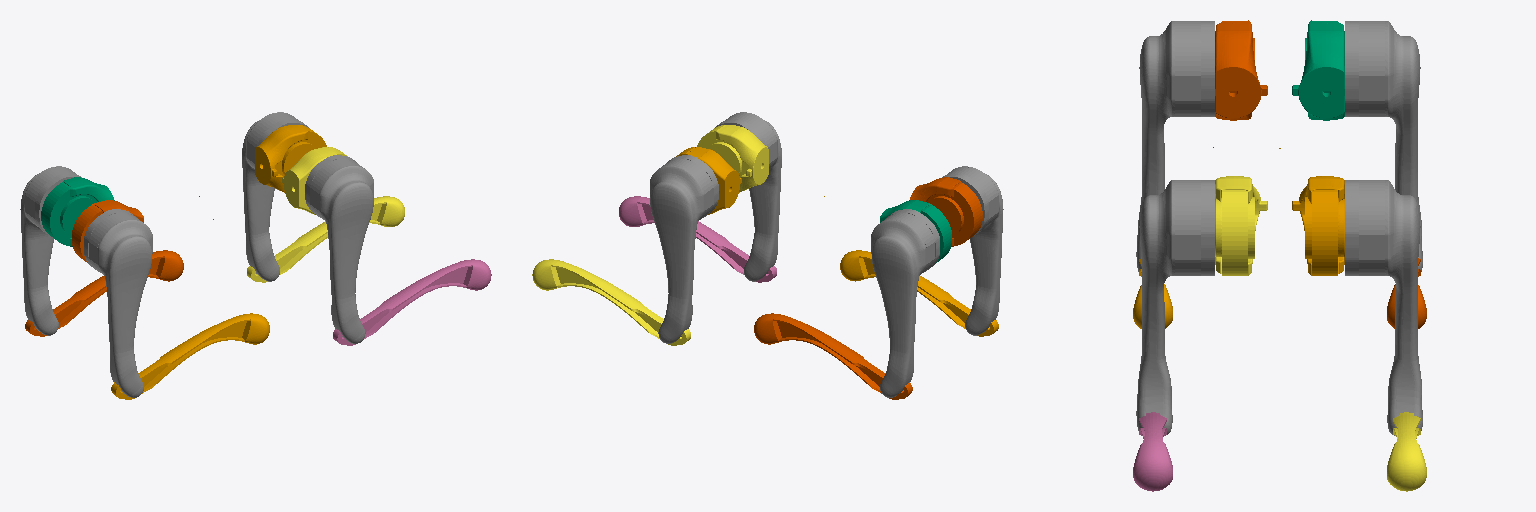
--- Render facts (derived) ---
3 views of the same robot in one strip: view 1: azimuth 30°, elevation 25°; view 2: azimuth 150°, elevation 25°; view 3: azimuth 270°, elevation 25° (orthographic).
Robot: go1_description — 23 links, 22 joints (12 revolute, 10 fixed); root link base; default pose: all joints at 0 but 4 set to mid-range because 0 is outside their limits (FR_calf_joint = -1.78, FL_calf_joint = -1.78, RR_calf_joint = -1.78, RL_calf_joint = -1.78).
Visible links, largest first — view 1: RR_thigh, FR_thigh, RL_thigh, FL_thigh, RR_calf, FR_calf, FL_hip, RL_hip, RL_calf, FL_calf, FR_hip, RR_hip; view 2: RL_thigh, FL_thigh, RR_thigh, FR_thigh, RL_calf, FL_calf, FR_hip, RR_hip, RR_calf, FR_calf, FL_hip, RL_hip; view 3: FR_thigh, FL_thigh, RR_thigh, RL_thigh, FR_hip, FL_hip, RR_hip, RL_hip, FR_calf, FL_calf, RR_calf, RL_calf.
Boxes of the visible links, x1,y1,x2,y2 form: RR_thigh: (84,209,152,397); FR_thigh: (305,155,373,343); RL_thigh: (20,166,81,335); FL_thigh: (242,112,308,281); RR_calf: (111,313,269,399); FR_calf: (333,259,491,345); FL_hip: (255,125,326,192); RL_hip: (41,177,114,246); RL_calf: (25,250,183,336); FL_calf: (247,196,404,282); FR_hip: (282,147,347,214); RR_hip: (72,200,143,262); RL_thigh: (871,209,939,397); FL_thigh: (650,155,718,343); RR_thigh: (942,166,1003,335); FR_thigh: (715,112,781,281); RL_calf: (754,313,912,399); FL_calf: (532,259,690,345); FR_hip: (697,125,768,192); RR_hip: (909,177,982,246); RR_calf: (840,250,998,336); FR_calf: (619,196,776,282); FL_hip: (676,147,741,214); RL_hip: (880,200,951,262); FR_thigh: (1136,180,1214,435); FL_thigh: (1345,180,1422,435); RR_thigh: (1136,21,1214,271); RL_thigh: (1345,21,1422,271); FR_hip: (1215,176,1267,275); FL_hip: (1292,176,1344,275); RR_hip: (1215,20,1267,120); RL_hip: (1292,20,1344,120); FR_calf: (1133,412,1172,491); FL_calf: (1387,412,1426,491); RR_calf: (1133,258,1172,328); RL_calf: (1387,258,1426,328).
Size in the robot's own frame: 0.6549 by 0.294 by 0.2793 metres.
Meshes: 5 distinct files referenced, 12 mesh visuals loaded (4 Collada DAE); not drawn: 1 (reference not matched to a file when rendering).

robot.urdf — go1_description:
<?xml version="1.0" ?>
<!-- =================================================================================== -->
<!-- |    This document was autogenerated by xacro from robot.xacro                    | -->
<!-- |    EDITING THIS FILE BY HAND IS NOT RECOMMENDED                                 | -->
<!-- =================================================================================== -->
<robot name="go1_description" xmlns:xacro="http://www.ros.org/wiki/xacro">
  <material name="black">
    <color rgba="0.0 0.0 0.0 1.0"/>
  </material>
  <material name="blue">
    <color rgba="0.0 0.0 0.8 1.0"/>
  </material>
  <material name="green">
    <color rgba="0.0 0.8 0.0 1.0"/>
  </material>
  <material name="grey">
    <color rgba="0.2 0.2 0.2 1.0"/>
  </material>
  <material name="silver">
    <color rgba="0.913725490196 0.913725490196 0.847058823529 1.0"/>
  </material>
  <material name="orange">
    <color rgba="1.0 0.423529411765 0.0392156862745 1.0"/>
  </material>
  <material name="brown">
    <color rgba="0.870588235294 0.811764705882 0.764705882353 1.0"/>
  </material>
  <material name="red">
    <color rgba="0.8 0.0 0.0 1.0"/>
  </material>
  <material name="white">
    <color rgba="1.0 1.0 1.0 1.0"/>
  </material>
  <!-- ros_control plugin -->
  <gazebo>
    <plugin filename="libgazebo_ros_control.so" name="gazebo_ros_control">
      <robotNamespace>/go1_gazebo</robotNamespace>
      <robotSimType>gazebo_ros_control/DefaultRobotHWSim</robotSimType>
    </plugin>
  </gazebo>
  <!-- Show the trajectory of trunk center. -->
  <gazebo>
    <plugin filename="libLinkPlot3DPlugin.so" name="3dplot">
      <frequency>10</frequency>
      <plot>
        <link>base</link>
        <pose>0 0 0 0 0 0</pose>
        <material>Gazebo/Yellow</material>
      </plot>
    </plugin>
  </gazebo>
  <!-- Show the trajectory of foot. You can add another trajectory about another foot. -->
  <!-- <gazebo>
        <plugin name="3dplot" filename="libLinkPlot3DPlugin.so">
            <frequency>100</frequency>
            <plot>
                <link>FL_foot</link>
                <pose>0 0 0 0 0 0</pose>
                <material>Gazebo/Green</material>
            </plot>
        </plugin>
    </gazebo> -->
  <gazebo>
    <plugin filename="libgazebo_ros_force.so" name="gazebo_ros_force">
      <bodyName>trunk</bodyName>
      <topicName>/apply_force/trunk</topicName>
    </plugin>
  </gazebo>
  <gazebo reference="imu_link">
    <gravity>true</gravity>
    <sensor name="imu_sensor" type="imu">
      <always_on>true</always_on>
      <update_rate>1000</update_rate>
      <visualize>true</visualize>
      <topic>__default_topic__</topic>
      <plugin filename="libgazebo_ros_imu_sensor.so" name="imu_plugin">
        <topicName>trunk_imu</topicName>
        <bodyName>imu_link</bodyName>
        <updateRateHZ>1000.0</updateRateHZ>
        <gaussianNoise>0.0</gaussianNoise>
        <xyzOffset>0 0 0</xyzOffset>
        <rpyOffset>0 0 0</rpyOffset>
        <frameName>imu_link</frameName>
      </plugin>
      <pose>0 0 0 0 0 0</pose>
    </sensor>
  </gazebo>
  <!-- Depth camera -->
  <!-- <gazebo>
        <plugin name="camera_plugin" filename="libgazebo_ros_openni_kinect.so">
            <baseline>0.025</baseline>
            <always_on>true</always_on>
            <updateRate>0.0</updateRate>
            <cameraName>unitree_camera_left</cameraName>
            <frameName>depthCamera_link_left</frameName>
            <imageTopicName>rgb/imageRaw_left</imageTopicName>
            <depthImageTopicName>depth/imageRaw_left</depthImageTopicName>
            <pointCloudTopicName>depth/points_left</pointCloudTopicName>
            <cameraInfoTopicName>rgb/cameraInfo_left</cameraInfoTopicName>              
            <depthImageCameraInfoTopicName>depth/cameraInfo_left</depthImageCameraInfoTopicName>            
            <pointCloudCutoff>0.1</pointCloudCutoff>                
            <pointCloudCutoffMax>1.5</pointCloudCutoffMax>                
            <distortionK1>0.0</distortionK1>
            <distortionK2>0.0</distortionK2>
            <distortionK3>0.0</distortionK3>
            <distortionT1>0.0</distortionT1>
            <distortionT2>0.0</distortionT2>
            <CxPrime>0.0</CxPrime>
            <Cx>0.0045</Cx>
            <Cy>0.0039</Cy>
            <focalLength>0.004</focalLength>
            <hackBaseline>0.0</hackBaseline>
        </plugin>
    </gazebo> -->
  <!-- <gazebo reference="depthCamera_link_left">
        <sensor name="unitree_camera_left" type="depth_camera">
            <update_rate>16</update_rate>
            <always_on>true</always_on>
            <visualize>true</visualize>
            <camera>
                <horizontal_fov>2.094</horizontal_fov>
                <image>
                    <width>928</width>
                    <height>800</height>
                    <format>R8G8B8</format>
                </image>
                <depth_camera></depth_camera>
                <clip>
                    <near>0.1</near>
                    <far>100</far>
                </clip>
            </camera>
            <plugin name="camera_plugin" filename="libgazebo_ros_openni_kinect.so">
                <baseline>0.025</baseline>
                <always_on>true</always_on>
                <updateRate>0.0</updateRate>
                <cameraName>unitree_camera_left</cameraName>
                <frameName>depthCamera_link_left</frameName>
                <imageTopicName>rgb/imageRaw_left</imageTopicName>
                <depthImageTopicName>depth/imageRaw_left</depthImageTopicName>
                <pointCloudTopicName>depth/points_left</pointCloudTopicName>
                <cameraInfoTopicName>rgb/cameraInfo_left</cameraInfoTopicName>              
                <depthImageCameraInfoTopicName>depth/cameraInfo_left</depthImageCameraInfoTopicName>            
                <pointCloudCutoff>0.1</pointCloudCutoff>                
                <pointCloudCutoffMax>1.5</pointCloudCutoffMax>                
                <distortionK1>0.0</distortionK1>
                <distortionK2>0.0</distortionK2>
                <distortionK3>0.0</distortionK3>
                <distortionT1>0.0</distortionT1>
                <distortionT2>0.0</distortionT2>
                <CxPrime>0.0</CxPrime>
                <Cx>0.0045</Cx>
                <Cy>0.0039</Cy>
                <focalLength>0.004</focalLength>
                <hackBaseline>0.0</hackBaseline>
            </plugin>
        </sensor>
    </gazebo> -->
  <gazebo reference="depthCamera_link_left">
    <sensor name="camera_link_camera" type="depth">
      <update_rate>20</update_rate>
      <camera>
        <horizontal_fov>1.047198</horizontal_fov>
        <image>
          <width>640</width>
          <height>480</height>
          <format>R8G8B8</format>
        </image>
        <clip>
          <near>0.05</near>
          <far>3</far>
        </clip>
      </camera>
      <plugin filename="libgazebo_ros_openni_kinect.so" name="camera_link_controller">
        <baseline>0.2</baseline>
        <alwaysOn>true</alwaysOn>
        <updateRate>1.0</updateRate>
        <cameraName>camera_link_ir</cameraName>
        <imageTopicName>/camera_link/color/image_raw</imageTopicName>
        <cameraInfoTopicName>/camera_link/color/camera_info</cameraInfoTopicName>
        <depthImageTopicName>/camera_link/depth/image_raw</depthImageTopicName>
        <depthImageInfoTopicName>/camera_link/depth/camera_info</depthImageInfoTopicName>
        <pointCloudTopicName>/camera_link/depth/points</pointCloudTopicName>
        <frameName>depthCamera_link_left</frameName>
        <pointCloudCutoff>0.5</pointCloudCutoff>
        <pointCloudCutoffMax>3.0</pointCloudCutoffMax>
        <distortionK1>0.00000001</distortionK1>
        <distortionK2>0.00000001</distortionK2>
        <distortionK3>0.00000001</distortionK3>
        <distortionT1>0.00000001</distortionT1>
        <distortionT2>0.00000001</distortionT2>
        <CxPrime>0</CxPrime>
        <Cx>0</Cx>
        <Cy>0</Cy>
        <focalLength>0</focalLength>
        <hackBaseline>0</hackBaseline>
      </plugin>
    </sensor>
  </gazebo>
  <!-- Foot contacts. -->
  <gazebo reference="FR_calf">
    <sensor name="FR_foot_contact" type="contact">
      <update_rate>100</update_rate>
      <plugin filename="libunitreeFootContactPlugin.so" name="contactPlugin"/>
      <contact>
        <collision>FR_calf_fixed_joint_lump__FR_foot_collision_1</collision>
      </contact>
    </sensor>
  </gazebo>
  <gazebo reference="FL_calf">
    <sensor name="FL_foot_contact" type="contact">
      <update_rate>100</update_rate>
      <plugin filename="libunitreeFootContactPlugin.so" name="contactPlugin"/>
      <contact>
        <collision>FL_calf_fixed_joint_lump__FL_foot_collision_1</collision>
      </contact>
    </sensor>
  </gazebo>
  <gazebo reference="RR_calf">
    <sensor name="RR_foot_contact" type="contact">
      <update_rate>100</update_rate>
      <plugin filename="libunitreeFootContactPlugin.so" name="contactPlugin"/>
      <contact>
        <collision>RR_calf_fixed_joint_lump__RR_foot_collision_1</collision>
      </contact>
    </sensor>
  </gazebo>
  <gazebo reference="RL_calf">
    <sensor name="RL_foot_contact" type="contact">
      <update_rate>100</update_rate>
      <plugin filename="libunitreeFootContactPlugin.so" name="contactPlugin"/>
      <contact>
        <collision>RL_calf_fixed_joint_lump__RL_foot_collision_1</collision>
      </contact>
    </sensor>
  </gazebo>
  <!-- Visualization of Foot contacts. -->
  <gazebo reference="FR_foot">
    <visual>
      <plugin filename="libunitreeDrawForcePlugin.so" name="drawForcePlugin">
        <topicName>FR_foot_contact</topicName>
      </plugin>
    </visual>
  </gazebo>
  <gazebo reference="FL_foot">
    <visual>
      <plugin filename="libunitreeDrawForcePlugin.so" name="drawForcePlugin">
        <topicName>FL_foot_contact</topicName>
      </plugin>
    </visual>
  </gazebo>
  <gazebo reference="RR_foot">
    <visual>
      <plugin filename="libunitreeDrawForcePlugin.so" name="drawForcePlugin">
        <topicName>RR_foot_contact</topicName>
      </plugin>
    </visual>
  </gazebo>
  <gazebo reference="RL_foot">
    <visual>
      <plugin filename="libunitreeDrawForcePlugin.so" name="drawForcePlugin">
        <topicName>RL_foot_contact</topicName>
      </plugin>
    </visual>
  </gazebo>
  <gazebo reference="base">
    <material>Gazebo/Green</material>
    <turnGravityOff>false</turnGravityOff>
  </gazebo>
  <gazebo reference="trunk">
    <mu1>0.2</mu1>
    <mu2>0.2</mu2>
    <kp value="1000000.0"/>
    <kd value="1.0"/>
  </gazebo>
  <gazebo reference="stick_link">
    <mu1>0.2</mu1>
    <mu2>0.2</mu2>
    <material>Gazebo/White</material>
  </gazebo>
  <gazebo reference="imu_link">
    <mu1>0.2</mu1>
    <mu2>0.2</mu2>
    <material>Gazebo/Red</material>
  </gazebo>
  <!-- FL leg -->
  <gazebo reference="FL_hip">
    <mu1>0.2</mu1>
    <mu2>0.2</mu2>
    <material>Gazebo/DarkGrey</material>
  </gazebo>
  <gazebo reference="FL_thigh">
    <mu1>0.2</mu1>
    <mu2>0.2</mu2>
    <self_collide>1</self_collide>
    <material>Gazebo/DarkGrey</material>
    <kp value="1000000.0"/>
    <kd value="1.0"/>
  </gazebo>
  <gazebo reference="FL_calf">
    <mu1>0.2</mu1>
    <mu2>0.2</mu2>
    <self_collide>1</self_collide>
  </gazebo>
  <gazebo reference="FL_foot">
    <mu1>0.6</mu1>
    <mu2>0.6</mu2>
    <self_collide>1</self_collide>
    <material>Gazebo/DarkGrey</material>
    <kp value="1000000.0"/>
    <kd value="1.0"/>
  </gazebo>
  <!-- FR leg -->
  <gazebo reference="FR_hip">
    <mu1>0.2</mu1>
    <mu2>0.2</mu2>
    <material>Gazebo/DarkGrey</material>
  </gazebo>
  <gazebo reference="FR_thigh">
    <mu1>0.2</mu1>
    <mu2>0.2</mu2>
    <self_collide>1</self_collide>
    <material>Gazebo/DarkGrey</material>
    <kp value="1000000.0"/>
    <kd value="1.0"/>
  </gazebo>
  <gazebo reference="FR_calf">
    <mu1>0.2</mu1>
    <mu2>0.2</mu2>
    <self_collide>1</self_collide>
  </gazebo>
  <gazebo reference="FR_foot">
    <mu1>0.6</mu1>
    <mu2>0.6</mu2>
    <self_collide>1</self_collide>
    <material>Gazebo/DarkGrey</material>
    <kp value="1000000.0"/>
    <kd value="1.0"/>
  </gazebo>
  <!-- RL leg -->
  <gazebo reference="RL_hip">
    <mu1>0.2</mu1>
    <mu2>0.2</mu2>
    <material>Gazebo/DarkGrey</material>
  </gazebo>
  <gazebo reference="RL_thigh">
    <mu1>0.2</mu1>
    <mu2>0.2</mu2>
    <self_collide>1</self_collide>
    <material>Gazebo/DarkGrey</material>
    <kp value="1000000.0"/>
    <kd value="1.0"/>
  </gazebo>
  <gazebo reference="RL_calf">
    <mu1>0.2</mu1>
    <mu2>0.2</mu2>
    <self_collide>1</self_collide>
  </gazebo>
  <gazebo reference="RL_foot">
    <mu1>0.6</mu1>
    <mu2>0.6</mu2>
    <self_collide>1</self_collide>
    <material>Gazebo/DarkGrey</material>
    <kp value="1000000.0"/>
    <kd value="1.0"/>
  </gazebo>
  <!-- RR leg -->
  <gazebo reference="RR_hip">
    <mu1>0.2</mu1>
    <mu2>0.2</mu2>
    <material>Gazebo/DarkGrey</material>
  </gazebo>
  <gazebo reference="RR_thigh">
    <mu1>0.2</mu1>
    <mu2>0.2</mu2>
    <self_collide>1</self_collide>
    <material>Gazebo/DarkGrey</material>
    <kp value="1000000.0"/>
    <kd value="1.0"/>
  </gazebo>
  <gazebo reference="RR_calf">
    <mu1>0.2</mu1>
    <mu2>0.2</mu2>
    <self_collide>1</self_collide>
  </gazebo>
  <gazebo reference="RR_foot">
    <mu1>0.6</mu1>
    <mu2>0.6</mu2>
    <self_collide>1</self_collide>
    <material>Gazebo/DarkGrey</material>
    <kp value="1000000.0"/>
    <kd value="1.0"/>
  </gazebo>
  <!-- <xacro:include filename="$(find go1_gazebo)/launch/stairs.urdf.xacro"/> -->
  <!-- <xacro:stairs stairs="15" xpos="0" ypos="0" zpos="0" /> -->
  <!-- Debug mode will hung up the robot, use "true" or "false" to switch it. -->
  <!-- <xacro:if value="$(arg DEBUG)">
    <link name="world"/>
    <joint name="base_static_joint" type="fixed">
      <origin rpy="0 0 0" xyz="0 0 0"/>
      <parent link="world"/>
      <child link="base"/>
    </joint>
  </xacro:if>  -->
  <link name="base">
    <visual>
      <origin rpy="0 0 0" xyz="0 0 0"/>
      <geometry>
        <box size="0.001 0.001 0.001"/>
      </geometry>
    </visual>
  </link>
  <joint name="floating_base" type="fixed" dont_collapse="true">
    <origin rpy="0 0 0" xyz="0 0 0"/>
    <parent link="base"/>
    <child link="trunk"/>
  </joint>
  <link name="trunk">
    <visual>
      <origin rpy="0 0 0" xyz="0 0 0"/>
      <geometry>
        <mesh filename="../meshes/trunk.dae" scale="1 1 1"/>
      </geometry>
      <!-- <material name="orange"/> -->
    </visual>
    <collision>
      <origin rpy="0 0 0" xyz="0 0 0"/>
      <geometry>
        <box size="0.3762 0.0935 0.114"/>
      </geometry>
    </collision>
    <inertial>
      <origin rpy="0 0 0" xyz="0.0223 0.002 -0.0005"/>
      <mass value="5.204"/>
      <inertia ixx="0.0168352186" ixy="0.0004636141" ixz="0.0002367952" iyy="0.0656071082" iyz="3.6671e-05" izz="0.0742720659"/>
    </inertial>
  </link>
  <joint name="imu_joint" type="fixed">
    <parent link="trunk"/>
    <child link="imu_link"/>
    <origin rpy="0 0 0" xyz="-0.01592 -0.06659 -0.00617"/>
  </joint>
  <link name="imu_link">
    <inertial>
      <mass value="0.001"/>
      <origin rpy="0 0 0" xyz="0 0 0"/>
      <inertia ixx="0.0001" ixy="0" ixz="0" iyy="0.0001" iyz="0" izz="0.0001"/>
    </inertial>
    <visual>
      <origin rpy="0 0 0" xyz="0 0 0"/>
      <geometry>
        <box size="0.001 0.001 0.001"/>
      </geometry>
      <!-- <material name="red"/> -->
    </visual>
    <collision>
      <origin rpy="0 0 0" xyz="0 0 0"/>
      <geometry>
        <box size=".001 .001 .001"/>
      </geometry>
    </collision>
  </link>
  <joint name="FR_hip_joint" type="revolute">
    <origin rpy="0 0 0" xyz="0.1881 -0.04675 0"/>
    <parent link="trunk"/>
    <child link="FR_hip"/>
    <axis xyz="1 0 0"/>
    <dynamics damping="0.01" friction="0.2"/>
    <limit effort="23.7" lower="-1.0471975512" upper="1.0471975512" velocity="30.1"/>
  </joint>
  <link name="FR_hip">
    <visual>
      <origin rpy="3.14159265359 0 0" xyz="0 0 0"/>
      <geometry>
        <mesh filename="../meshes/hip.dae" scale="1 1 1"/>
      </geometry>
      <!-- <material name="orange"/> -->
    </visual>
    <!-- <collision>
      <origin rpy="1.57079632679 0 0" xyz="0 0 0"/>
      <geometry>
        <cylinder length="0.04" radius="0.046"/>
      </geometry>
    </collision> -->
    <inertial>
      <origin rpy="0 0 0" xyz="-0.00541 0.00074 6e-06"/>
      <mass value="0.591"/>
      <inertia ixx="0.000374268192" ixy="-3.6844422e-05" ixz="-9.86754e-07" iyy="0.000635923669" iyz="1.172894e-06" izz="0.000457647394"/>
    </inertial>
  </link>
  <joint name="FR_hip_fixed" type="fixed">
    <origin rpy="0 0 0" xyz="0 -0.08 0"/>
    <parent link="FR_hip"/>
    <child link="FR_thigh_shoulder"/>
  </joint>
  <!-- this link is only for collision -->
  <link name="FR_thigh_shoulder">
    <collision>
      <origin rpy="1.57079632679 0 0" xyz="0 0 0"/>
      <geometry>
        <cylinder length="0.032" radius="0.041"/>
      </geometry>
    </collision>
  </link>
  <joint name="FR_thigh_joint" type="revolute">
    <origin rpy="0 0 0" xyz="0 -0.08 0"/>
    <parent link="FR_hip"/>
    <child link="FR_thigh"/>
    <axis xyz="0 1 0"/>
    <dynamics damping="0.01" friction="0.2"/>
    <limit effort="23.7" lower="-0.663225115758" upper="2.96705972839" velocity="30.1"/>
  </joint>
  <link name="FR_thigh">
    <visual>
      <origin rpy="0 0 0" xyz="0 0 0"/>
      <geometry>
        <mesh filename="../meshes/thigh_mirror.dae" scale="1 1 1"/>
      </geometry>
      <!-- <material name="orange"/> -->
    </visual>
    <collision>
      <origin rpy="0 1.57079632679 0" xyz="0 0 -0.1065"/>
      <geometry>
        <box size="0.213 0.0245 0.034"/>
      </geometry>
    </collision>
    <inertial>
      <origin rpy="0 0 0" xyz="-0.003468 0.018947 -0.032736"/>
      <mass value="0.92"/>
      <inertia ixx="0.005851561134" ixy="-1.783284e-06" ixz="0.000328291374" iyy="0.005596155105" iyz="-2.1430713e-05" izz="0.00107157026"/>
    </inertial>
  </link>
  <joint name="FR_calf_joint" type="revolute">
    <origin rpy="0 0 0" xyz="0 0 -0.213"/>
    <parent link="FR_thigh"/>
    <child link="FR_calf"/>
    <axis xyz="0 1 0"/>
    <dynamics damping="0.01" friction="0.2"/>
    <limit effort="23.7" lower="-2.72271363311" upper="-0.837758040957" velocity="30.1"/>
  </joint>
  <link name="FR_calf">
    <visual>
      <origin rpy="0 0 0" xyz="0 0 0"/>
      <geometry>
        <mesh filename="../meshes/calf.dae" scale="1 1 1"/>
      </geometry>
      <!-- <material name="orange"/> -->
    </visual>
    <collision>
      <origin rpy="0 1.57079632679 0" xyz="0 0 -0.1065"/>
      <geometry>
        <box size="0.213 0.016 0.016"/>
      </geometry>
    </collision>
    <inertial>
      <origin rpy="0 0 0" xyz="0.006286 0.001307 -0.122269"/>
      <mass value="0.131"/>
      <inertia ixx="0.002939186297" ixy="1.440899e-06" ixz="-0.00010535955" iyy="0.00295576935" iyz="-2.4397752e-05" izz="3.0273372e-05"/>
    </inertial>
  </link>
  <joint name="FR_foot_fixed" type="fixed" dont_collapse="true">
    <origin rpy="0 0 0" xyz="0 0 -0.213"/>
    <parent link="FR_calf"/>
    <child link="FR_foot"/>
  </joint>
  <link name="FR_foot">
    <visual>
      <origin rpy="0 0 0" xyz="0 0 0"/>
      <geometry>
        <sphere radius="0.01"/>
      </geometry>
      <!-- <material name="orange"/> -->
    </visual>
    <collision>
      <origin rpy="0 0 0" xyz="0 0 0"/>
      <geometry>
        <sphere radius="0.02"/>
      </geometry>
    </collision>
    <inertial>
      <mass value="0.06"/>
      <inertia ixx="9.6e-06" ixy="0.0" ixz="0.0" iyy="9.6e-06" iyz="0.0" izz="9.6e-06"/>
    </inertial>
  </link>
  <transmission name="FR_hip_tran">
    <type>transmission_interface/SimpleTransmission</type>
    <joint name="FR_hip_joint">
      <hardwareInterface>hardware_interface/EffortJointInterface</hardwareInterface>
    </joint>
    <actuator name="FR_hip_motor">
      <hardwareInterface>hardware_interface/EffortJointInterface</hardwareInterface>
      <mechanicalReduction>1</mechanicalReduction>
    </actuator>
  </transmission>
  <transmission name="FR_thigh_tran">
    <type>transmission_interface/SimpleTransmission</type>
    <joint name="FR_thigh_joint">
      <hardwareInterface>hardware_interface/EffortJointInterface</hardwareInterface>
    </joint>
    <actuator name="FR_thigh_motor">
      <hardwareInterface>hardware_interface/EffortJointInterface</hardwareInterface>
      <mechanicalReduction>1</mechanicalReduction>
    </actuator>
  </transmission>
  <transmission name="FR_calf_tran">
    <type>transmission_interface/SimpleTransmission</type>
    <joint name="FR_calf_joint">
      <hardwareInterface>hardware_interface/EffortJointInterface</hardwareInterface>
    </joint>
    <actuator name="FR_calf_motor">
      <hardwareInterface>hardware_interface/EffortJointInterface</hardwareInterface>
      <mechanicalReduction>1</mechanicalReduction>
    </actuator>
  </transmission>
  <joint name="FL_hip_joint" type="revolute">
    <origin rpy="0 0 0" xyz="0.1881 0.04675 0"/>
    <parent link="trunk"/>
    <child link="FL_hip"/>
    <axis xyz="1 0 0"/>
    <dynamics damping="0.01" friction="0.2"/>
    <limit effort="23.7" lower="-1.0471975512" upper="1.0471975512" velocity="30.1"/>
  </joint>
  <link name="FL_hip">
    <visual>
      <origin rpy="0 0 0" xyz="0 0 0"/>
      <geometry>
        <mesh filename="../meshes/hip.dae" scale="1 1 1"/>
      </geometry>
      <!-- <material name="orange"/> -->
    </visual>
    <!-- <collision>
      <origin rpy="1.57079632679 0 0" xyz="0 0 0"/>
      <geometry>
        <cylinder length="0.04" radius="0.046"/>
      </geometry>
    </collision> -->
    <inertial>
      <origin rpy="0 0 0" xyz="-0.00541 -0.00074 6e-06"/>
      <mass value="0.591"/>
      <inertia ixx="0.000374268192" ixy="3.6844422e-05" ixz="-9.86754e-07" iyy="0.000635923669" iyz="-1.172894e-06" izz="0.000457647394"/>
    </inertial>
  </link>
  <joint name="FL_hip_fixed" type="fixed">
    <origin rpy="0 0 0" xyz="0 0.08 0"/>
    <parent link="FL_hip"/>
    <child link="FL_thigh_shoulder"/>
  </joint>
  <!-- this link is only for collision -->
  <link name="FL_thigh_shoulder">
    <collision>
      <origin rpy="1.57079632679 0 0" xyz="0 0 0"/>
      <geometry>
        <cylinder length="0.032" radius="0.041"/>
      </geometry>
    </collision>
  </link>
  <joint name="FL_thigh_joint" type="revolute">
    <origin rpy="0 0 0" xyz="0 0.08 0"/>
    <parent link="FL_hip"/>
    <child link="FL_thigh"/>
    <axis xyz="0 1 0"/>
    <dynamics damping="0.01" friction="0.2"/>
    <limit effort="23.7" lower="-0.663225115758" upper="2.96705972839" velocity="30.1"/>
  </joint>
  <link name="FL_thigh">
    <visual>
      <origin rpy="0 0 0" xyz="0 0 0"/>
      <geometry>
        <mesh filename="../meshes/thigh.dae" scale="1 1 1"/>
      </geometry>
      <!-- <material name="orange"/> -->
    </visual>
    <collision>
      <origin rpy="0 1.57079632679 0" xyz="0 0 -0.1065"/>
      <geometry>
        <box size="0.213 0.0245 0.034"/>
      </geometry>
    </collision>
    <inertial>
      <origin rpy="0 0 0" xyz="-0.003468 -0.018947 -0.032736"/>
      <mass value="0.92"/>
      <inertia ixx="0.005851561134" ixy="1.783284e-06" ixz="0.000328291374" iyy="0.005596155105" iyz="2.1430713e-05" izz="0.00107157026"/>
    </inertial>
  </link>
  <joint name="FL_calf_joint" type="revolute">
    <origin rpy="0 0 0" xyz="0 0 -0.213"/>
    <parent link="FL_thigh"/>
    <child link="FL_calf"/>
    <axis xyz="0 1 0"/>
    <dynamics damping="0.01" friction="0.2"/>
    <limit effort="23.7" lower="-2.72271363311" upper="-0.837758040957" velocity="30.1"/>
  </joint>
  <link name="FL_calf">
    <visual>
      <origin rpy="0 0 0" xyz="0 0 0"/>
      <geometry>
        <mesh filename="../meshes/calf.dae" scale="1 1 1"/>
      </geometry>
      <!-- <material name="orange"/> -->
    </visual>
    <collision>
      <origin rpy="0 1.57079632679 0" xyz="0 0 -0.1065"/>
      <geometry>
        <box size="0.213 0.016 0.016"/>
      </geometry>
    </collision>
    <inertial>
      <origin rpy="0 0 0" xyz="0.006286 0.001307 -0.122269"/>
      <mass value="0.131"/>
      <inertia ixx="0.002939186297" ixy="1.440899e-06" ixz="-0.00010535955" iyy="0.00295576935" iyz="-2.4397752e-05" izz="3.0273372e-05"/>
    </inertial>
  </link>
  <joint name="FL_foot_fixed" type="fixed" dont_collapse="true">
    <origin rpy="0 0 0" xyz="0 0 -0.213"/>
    <parent link="FL_calf"/>
    <child link="FL_foot"/>
  </joint>
  <link name="FL_foot">
    <visual>
      <origin rpy="0 0 0" xyz="0 0 0"/>
      <geometry>
        <sphere radius="0.01"/>
      </geometry>
      <!-- <material name="orange"/> -->
    </visual>
    <collision>
      <origin rpy="0 0 0" xyz="0 0 0"/>
      <geometry>
        <sphere radius="0.02"/>
      </geometry>
    </collision>
    <inertial>
      <mass value="0.06"/>
      <inertia ixx="9.6e-06" ixy="0.0" ixz="0.0" iyy="9.6e-06" iyz="0.0" izz="9.6e-06"/>
    </inertial>
  </link>
  <transmission name="FL_hip_tran">
    <type>transmission_interface/SimpleTransmission</type>
    <joint name="FL_hip_joint">
      <hardwareInterface>hardware_interface/EffortJointInterface</hardwareInterface>
    </joint>
    <actuator name="FL_hip_motor">
      <hardwareInterface>hardware_interface/EffortJointInterface</hardwareInterface>
      <mechanicalReduction>1</mechanicalReduction>
    </actuator>
  </transmission>
  <transmission name="FL_thigh_tran">
    <type>transmission_interface/SimpleTransmission</type>
    <joint name="FL_thigh_joint">
      <hardwareInterface>hardware_interface/EffortJointInterface</hardwareInterface>
    </joint>
    <actuator name="FL_thigh_motor">
      <hardwareInterface>hardware_interface/EffortJointInterface</hardwareInterface>
      <mechanicalReduction>1</mechanicalReduction>
    </actuator>
  </transmission>
  <transmission name="FL_calf_tran">
    <type>transmission_interface/SimpleTransmission</type>
    <joint name="FL_calf_joint">
      <hardwareInterface>hardware_interface/EffortJointInterface</hardwareInterface>
    </joint>
    <actuator name="FL_calf_motor">
      <hardwareInterface>hardware_interface/EffortJointInterface</hardwareInterface>
      <mechanicalReduction>1</mechanicalReduction>
    </actuator>
  </transmission>
  <joint name="RR_hip_joint" type="revolute">
    <origin rpy="0 0 0" xyz="-0.1881 -0.04675 0"/>
    <parent link="trunk"/>
    <child link="RR_hip"/>
    <axis xyz="1 0 0"/>
    <dynamics damping="0.01" friction="0.2"/>
    <limit effort="23.7" lower="-1.0471975512" upper="1.0471975512" velocity="30.1"/>
  </joint>
  <link name="RR_hip">
    <visual>
      <origin rpy="3.14159265359 3.14159265359 0" xyz="0 0 0"/>
      <geometry>
        <mesh filename="../meshes/hip.dae" scale="1 1 1"/>
      </geometry>
      <!-- <material name="orange"/> -->
    </visual>
    <!-- <collision>
      <origin rpy="1.57079632679 0 0" xyz="0 0 0"/>
      <geometry>
        <cylinder length="0.04" radius="0.046"/>
      </geometry>
    </collision> -->
    <inertial>
      <origin rpy="0 0 0" xyz="0.00541 0.00074 6e-06"/>
      <mass value="0.591"/>
      <inertia ixx="0.000374268192" ixy="3.6844422e-05" ixz="9.86754e-07" iyy="0.000635923669" iyz="1.172894e-06" izz="0.000457647394"/>
    </inertial>
  </link>
  <joint name="RR_hip_fixed" type="fixed">
    <origin rpy="0 0 0" xyz="0 -0.08 0"/>
    <parent link="RR_hip"/>
    <child link="RR_thigh_shoulder"/>
  </joint>
  <!-- this link is only for collision -->
  <link name="RR_thigh_shoulder">
    <collision>
      <origin rpy="1.57079632679 0 0" xyz="0 0 0"/>
      <geometry>
        <cylinder length="0.032" radius="0.041"/>
      </geometry>
    </collision>
  </link>
  <joint name="RR_thigh_joint" type="revolute">
    <origin rpy="0 0 0" xyz="0 -0.08 0"/>
    <parent link="RR_hip"/>
    <child link="RR_thigh"/>
    <axis xyz="0 1 0"/>
    <dynamics damping="0.01" friction="0.2"/>
    <limit effort="23.7" lower="-0.663225115758" upper="2.96705972839" velocity="30.1"/>
  </joint>
  <link name="RR_thigh">
    <visual>
      <origin rpy="0 0 0" xyz="0 0 0"/>
      <geometry>
        <mesh filename="../meshes/thigh_mirror.dae" scale="1 1 1"/>
      </geometry>
      <!-- <material name="orange"/> -->
    </visual>
    <collision>
      <origin rpy="0 1.57079632679 0" xyz="0 0 -0.1065"/>
      <geometry>
        <box size="0.213 0.0245 0.034"/>
      </geometry>
    </collision>
    <inertial>
      <origin rpy="0 0 0" xyz="-0.003468 0.018947 -0.032736"/>
      <mass value="0.92"/>
      <inertia ixx="0.005851561134" ixy="-1.783284e-06" ixz="0.000328291374" iyy="0.005596155105" iyz="-2.1430713e-05" izz="0.00107157026"/>
    </inertial>
  </link>
  <joint name="RR_calf_joint" type="revolute">
    <origin rpy="0 0 0" xyz="0 0 -0.213"/>
    <parent link="RR_thigh"/>
    <child link="RR_calf"/>
    <axis xyz="0 1 0"/>
    <dynamics damping="0.01" friction="0.2"/>
    <limit effort="23.7" lower="-2.72271363311" upper="-0.837758040957" velocity="30.1"/>
  </joint>
  <link name="RR_calf">
    <visual>
      <origin rpy="0 0 0" xyz="0 0 0"/>
      <geometry>
        <mesh filename="../meshes/calf.dae" scale="1 1 1"/>
      </geometry>
      <!-- <material name="orange"/> -->
    </visual>
    <collision>
      <origin rpy="0 1.57079632679 0" xyz="0 0 -0.1065"/>
      <geometry>
        <box size="0.213 0.016 0.016"/>
      </geometry>
    </collision>
    <inertial>
      <origin rpy="0 0 0" xyz="0.006286 0.001307 -0.122269"/>
      <mass value="0.131"/>
      <inertia ixx="0.002939186297" ixy="1.440899e-06" ixz="-0.00010535955" iyy="0.00295576935" iyz="-2.4397752e-05" izz="3.0273372e-05"/>
    </inertial>
  </link>
  <joint name="RR_foot_fixed" type="fixed" dont_collapse="true">
    <origin rpy="0 0 0" xyz="0 0 -0.213"/>
    <parent link="RR_calf"/>
    <child link="RR_foot"/>
  </joint>
  <link name="RR_foot">
    <visual>
      <origin rpy="0 0 0" xyz="0 0 0"/>
      <geometry>
        <sphere radius="0.01"/>
      </geometry>
      <!-- <material name="orange"/> -->
    </visual>
    <collision>
      <origin rpy="0 0 0" xyz="0 0 0"/>
      <geometry>
        <sphere radius="0.02"/>
      </geometry>
    </collision>
    <inertial>
      <mass value="0.06"/>
      <inertia ixx="9.6e-06" ixy="0.0" ixz="0.0" iyy="9.6e-06" iyz="0.0" izz="9.6e-06"/>
    </inertial>
  </link>
  <transmission name="RR_hip_tran">
    <type>transmission_interface/SimpleTransmission</type>
    <joint name="RR_hip_joint">
      <hardwareInterface>hardware_interface/EffortJointInterface</hardwareInterface>
    </joint>
    <actuator name="RR_hip_motor">
      <hardwareInterface>hardware_interface/EffortJointInterface</hardwareInterface>
      <mechanicalReduction>1</mechanicalReduction>
    </actuator>
  </transmission>
  <transmission name="RR_thigh_tran">
    <type>transmission_interface/SimpleTransmission</type>
    <joint name="RR_thigh_joint">
      <hardwareInterface>hardware_interface/EffortJointInterface</hardwareInterface>
    </joint>
    <actuator name="RR_thigh_motor">
      <hardwareInterface>hardware_interface/EffortJointInterface</hardwareInterface>
      <mechanicalReduction>1</mechanicalReduction>
    </actuator>
  </transmission>
  <transmission name="RR_calf_tran">
    <type>transmission_interface/SimpleTransmission</type>
    <joint name="RR_calf_joint">
      <hardwareInterface>hardware_interface/EffortJointInterface</hardwareInterface>
    </joint>
    <actuator name="RR_calf_motor">
      <hardwareInterface>hardware_interface/EffortJointInterface</hardwareInterface>
      <mechanicalReduction>1</mechanicalReduction>
    </actuator>
  </transmission>
  <joint name="RL_hip_joint" type="revolute">
    <origin rpy="0 0 0" xyz="-0.1881 0.04675 0"/>
    <parent link="trunk"/>
    <child link="RL_hip"/>
    <axis xyz="1 0 0"/>
    <dynamics damping="0.01" friction="0.2"/>
    <limit effort="23.7" lower="-1.0471975512" upper="1.0471975512" velocity="30.1"/>
  </joint>
  <link name="RL_hip">
    <visual>
      <origin rpy="0 3.14159265359 0" xyz="0 0 0"/>
      <geometry>
        <mesh filename="../meshes/hip.dae" scale="1 1 1"/>
      </geometry>
      <!-- <material name="orange"/> -->
    </visual>
    <!-- <collision>
      <origin rpy="1.57079632679 0 0" xyz="0 0 0"/>
      <geometry>
        <cylinder length="0.04" radius="0.046"/>
      </geometry>
    </collision> -->
    <inertial>
      <origin rpy="0 0 0" xyz="0.00541 -0.00074 6e-06"/>
      <mass value="0.591"/>
      <inertia ixx="0.000374268192" ixy="-3.6844422e-05" ixz="9.86754e-07" iyy="0.000635923669" iyz="-1.172894e-06" izz="0.000457647394"/>
    </inertial>
  </link>
  <joint name="RL_hip_fixed" type="fixed">
    <origin rpy="0 0 0" xyz="0 0.08 0"/>
    <parent link="RL_hip"/>
    <child link="RL_thigh_shoulder"/>
  </joint>
  <!-- this link is only for collision -->
  <link name="RL_thigh_shoulder">
    <collision>
      <origin rpy="1.57079632679 0 0" xyz="0 0 0"/>
      <geometry>
        <cylinder length="0.032" radius="0.041"/>
      </geometry>
    </collision>
  </link>
  <joint name="RL_thigh_joint" type="revolute">
    <origin rpy="0 0 0" xyz="0 0.08 0"/>
    <parent link="RL_hip"/>
    <child link="RL_thigh"/>
    <axis xyz="0 1 0"/>
    <dynamics damping="0.01" friction="0.2"/>
    <limit effort="23.7" lower="-0.663225115758" upper="2.96705972839" velocity="30.1"/>
  </joint>
  <link name="RL_thigh">
    <visual>
      <origin rpy="0 0 0" xyz="0 0 0"/>
      <geometry>
        <mesh filename="../meshes/thigh.dae" scale="1 1 1"/>
      </geometry>
      <!-- <material name="orange"/> -->
    </visual>
    <collision>
      <origin rpy="0 1.57079632679 0" xyz="0 0 -0.1065"/>
      <geometry>
        <box size="0.213 0.0245 0.034"/>
      </geometry>
    </collision>
    <inertial>
      <origin rpy="0 0 0" xyz="-0.003468 -0.018947 -0.032736"/>
      <mass value="0.92"/>
      <inertia ixx="0.005851561134" ixy="1.783284e-06" ixz="0.000328291374" iyy="0.005596155105" iyz="2.1430713e-05" izz="0.00107157026"/>
    </inertial>
  </link>
  <joint name="RL_calf_joint" type="revolute">
    <origin rpy="0 0 0" xyz="0 0 -0.213"/>
    <parent link="RL_thigh"/>
    <child link="RL_calf"/>
    <axis xyz="0 1 0"/>
    <dynamics damping="0.01" friction="0.2"/>
    <limit effort="23.7" lower="-2.72271363311" upper="-0.837758040957" velocity="30.1"/>
  </joint>
  <link name="RL_calf">
    <visual>
      <origin rpy="0 0 0" xyz="0 0 0"/>
      <geometry>
        <mesh filename="../meshes/calf.dae" scale="1 1 1"/>
      </geometry>
      <!-- <material name="orange"/> -->
    </visual>
    <collision>
      <origin rpy="0 1.57079632679 0" xyz="0 0 -0.1065"/>
      <geometry>
        <box size="0.213 0.016 0.016"/>
      </geometry>
    </collision>
    <inertial>
      <origin rpy="0 0 0" xyz="0.006286 0.001307 -0.122269"/>
      <mass value="0.131"/>
      <inertia ixx="0.002939186297" ixy="1.440899e-06" ixz="-0.00010535955" iyy="0.00295576935" iyz="-2.4397752e-05" izz="3.0273372e-05"/>
    </inertial>
  </link>
  <joint name="RL_foot_fixed" type="fixed" dont_collapse="true">
    <origin rpy="0 0 0" xyz="0 0 -0.213"/>
    <parent link="RL_calf"/>
    <child link="RL_foot"/>
  </joint>
  <link name="RL_foot">
    <visual>
      <origin rpy="0 0 0" xyz="0 0 0"/>
      <geometry>
        <sphere radius="0.01"/>
      </geometry>
      <!-- <material name="orange"/> -->
    </visual>
    <collision>
      <origin rpy="0 0 0" xyz="0 0 0"/>
      <geometry>
        <sphere radius="0.02"/>
      </geometry>
    </collision>
    <inertial>
      <mass value="0.06"/>
      <inertia ixx="9.6e-06" ixy="0.0" ixz="0.0" iyy="9.6e-06" iyz="0.0" izz="9.6e-06"/>
    </inertial>
  </link>
  <transmission name="RL_hip_tran">
    <type>transmission_interface/SimpleTransmission</type>
    <joint name="RL_hip_joint">
      <hardwareInterface>hardware_interface/EffortJointInterface</hardwareInterface>
    </joint>
    <actuator name="RL_hip_motor">
      <hardwareInterface>hardware_interface/EffortJointInterface</hardwareInterface>
      <mechanicalReduction>1</mechanicalReduction>
    </actuator>
  </transmission>
  <transmission name="RL_thigh_tran">
    <type>transmission_interface/SimpleTransmission</type>
    <joint name="RL_thigh_joint">
      <hardwareInterface>hardware_interface/EffortJointInterface</hardwareInterface>
    </joint>
    <actuator name="RL_thigh_motor">
      <hardwareInterface>hardware_interface/EffortJointInterface</hardwareInterface>
      <mechanicalReduction>1</mechanicalReduction>
    </actuator>
  </transmission>
  <transmission name="RL_calf_tran">
    <type>transmission_interface/SimpleTransmission</type>
    <joint name="RL_calf_joint">
      <hardwareInterface>hardware_interface/EffortJointInterface</hardwareInterface>
    </joint>
    <actuator name="RL_calf_motor">
      <hardwareInterface>hardware_interface/EffortJointInterface</hardwareInterface>
      <mechanicalReduction>1</mechanicalReduction>
    </actuator>
  </transmission>

</robot>
